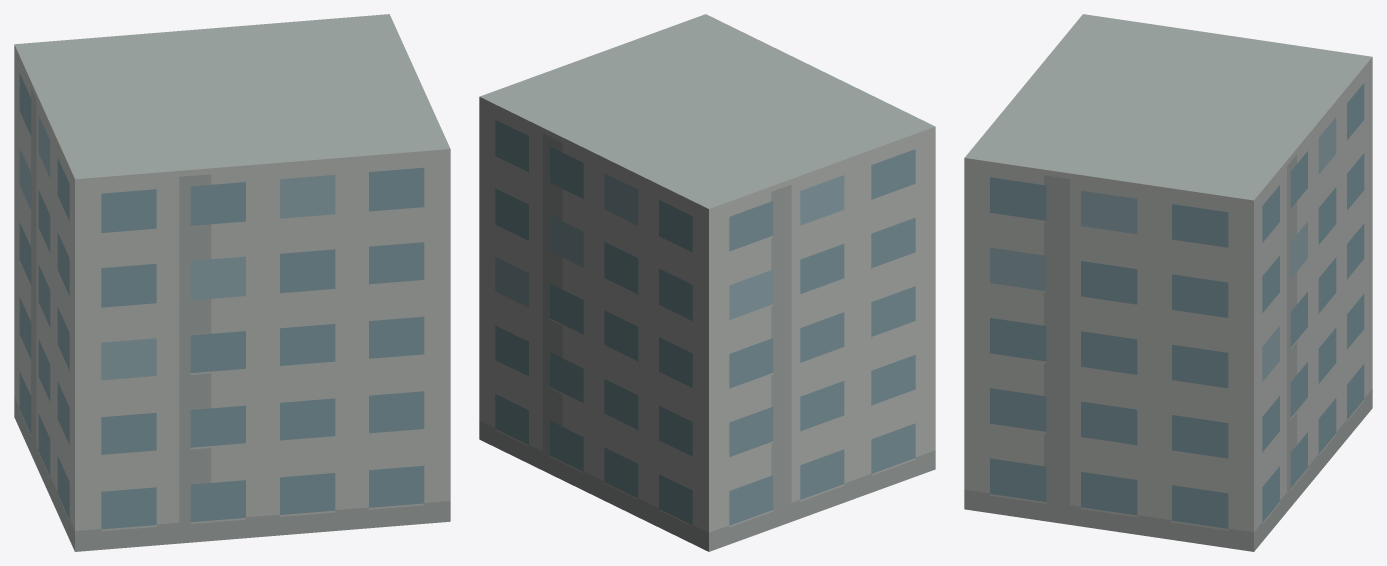
The model's file is residential-8abe8f44-f53b-45d1-b3c8-8abef08bc657.glb.
The picture shows the model from 3 angles, left to right: view 1: azimuth 30°, elevation 25°; view 2: azimuth 150°, elevation 25°; view 3: azimuth 270°, elevation 25°; orthographic projection. The views are drawn at different scales.
Visible parts, largest first — view 1: residential-8abe8f44-f53b-45d1-b3c8-8abef08bc657.tmp; view 2: residential-8abe8f44-f53b-45d1-b3c8-8abef08bc657.tmp; view 3: residential-8abe8f44-f53b-45d1-b3c8-8abef08bc657.tmp.
Part boxes in pixels (x1=…): residential-8abe8f44-f53b-45d1-b3c8-8abef08bc657.tmp: x1=14, y1=14, x2=450, y2=551; residential-8abe8f44-f53b-45d1-b3c8-8abef08bc657.tmp: x1=479, y1=14, x2=935, y2=551; residential-8abe8f44-f53b-45d1-b3c8-8abef08bc657.tmp: x1=964, y1=14, x2=1372, y2=551.
Bounding box in the file's own units: 17.36 × 15.25 × 16.06.
